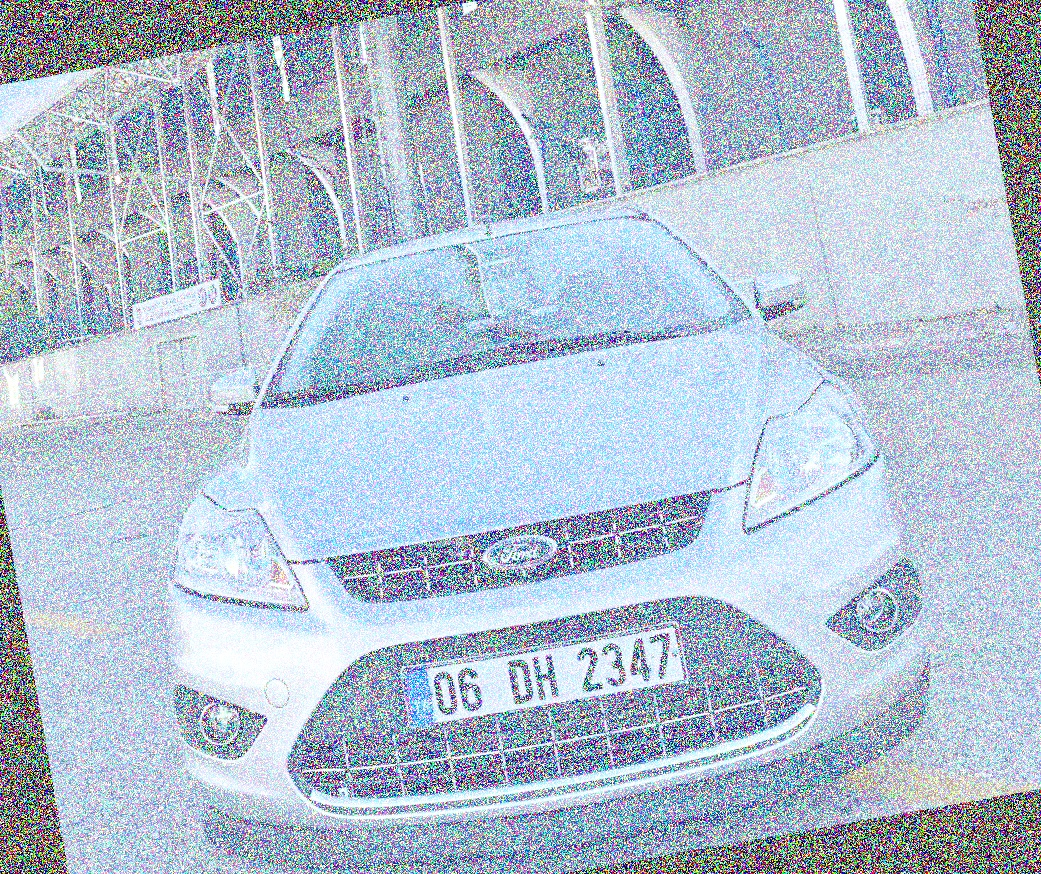plaka: (436, 627, 690, 723)
